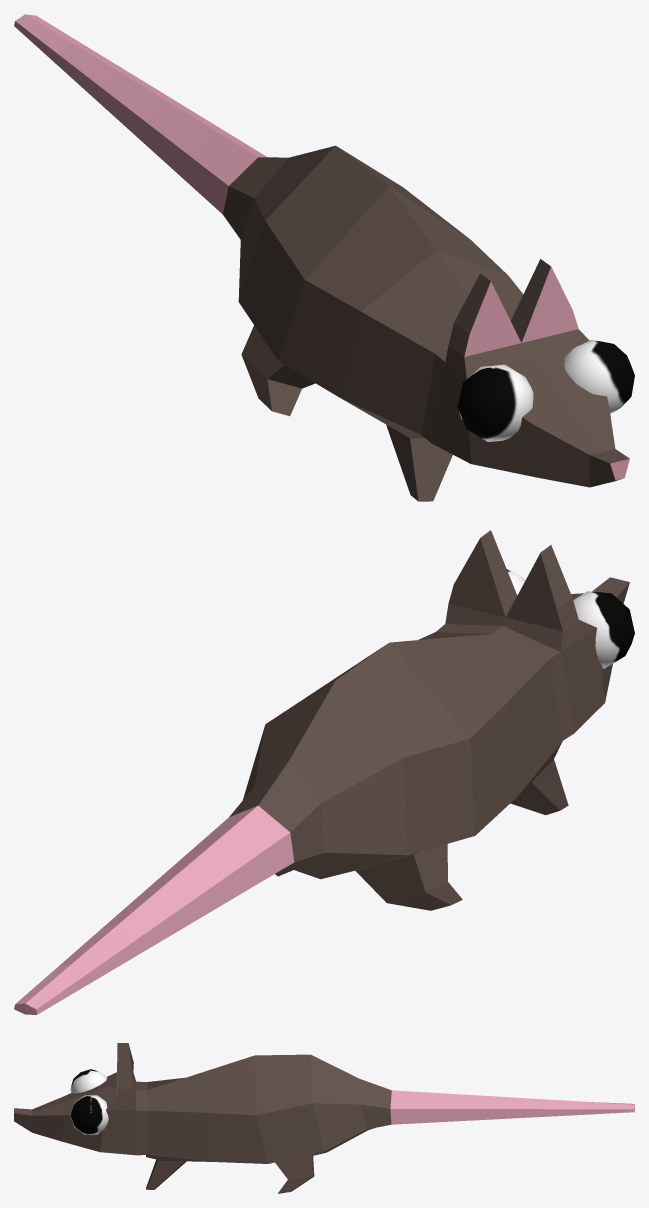
File: Rat.fbx
3 views of the same model, one above another, from view 1: azimuth 30°, elevation 25°; view 2: azimuth 150°, elevation 25°; view 3: azimuth 270°, elevation 25° (orthographic). The views are drawn at different scales.
Parts seen in each view (by area): view 1: Cube; view 2: Cube; view 3: Cube.
Boxes of the visible parts, x1,y1,x2,y2 form: Cube: (14,14,634,501); Cube: (14,530,634,1014); Cube: (14,1043,634,1193).
Bounding box in the file's own units: 217 × 249 × 1134.
